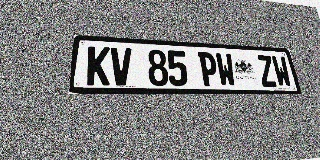5: (167, 50, 189, 86)
8: (147, 49, 169, 86)
K: (86, 46, 110, 85)
P: (198, 52, 219, 86)
V: (110, 47, 132, 86)
W: (215, 53, 237, 86), (271, 56, 293, 87)
Z: (256, 55, 278, 87)
